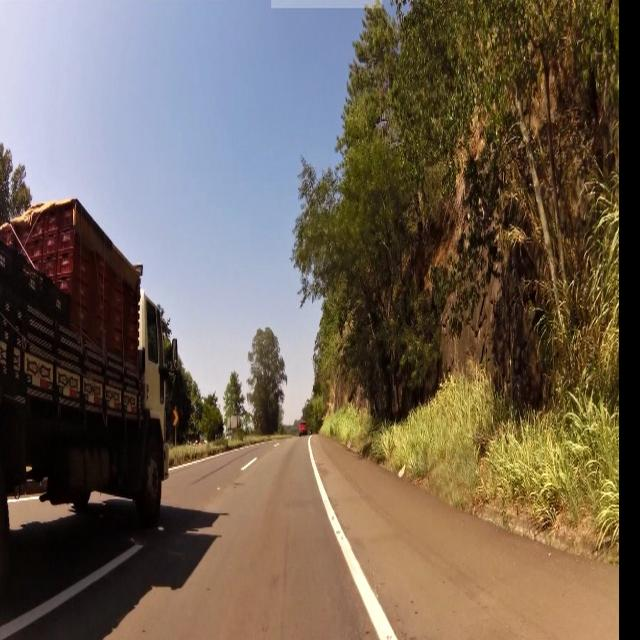Del: (172, 411, 179, 426)
